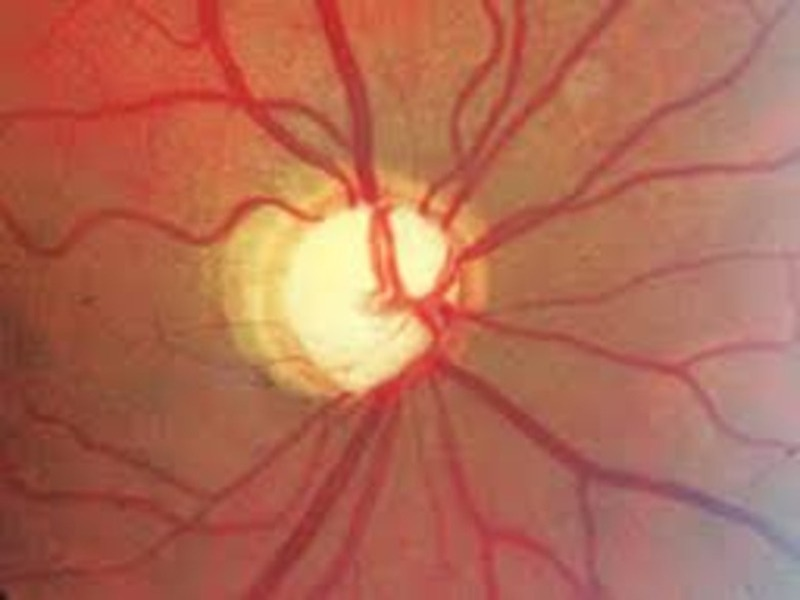Optic Cup: (287, 206, 440, 392)
Optic Disc: (228, 167, 489, 404)
